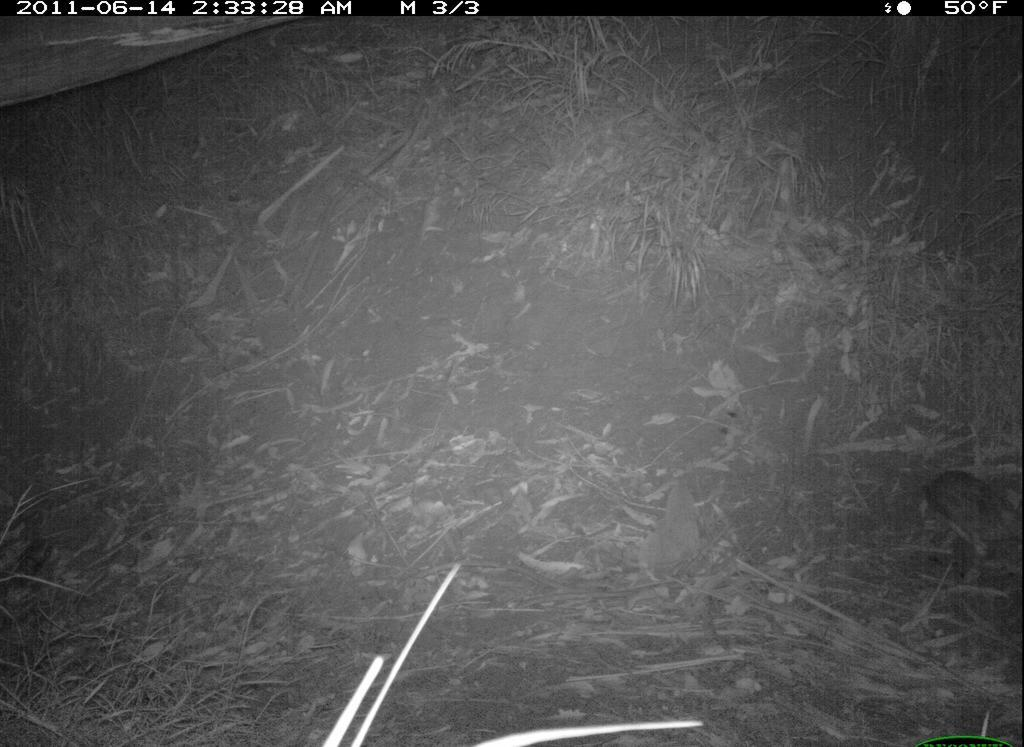rabbit: (919, 466, 1024, 581)
